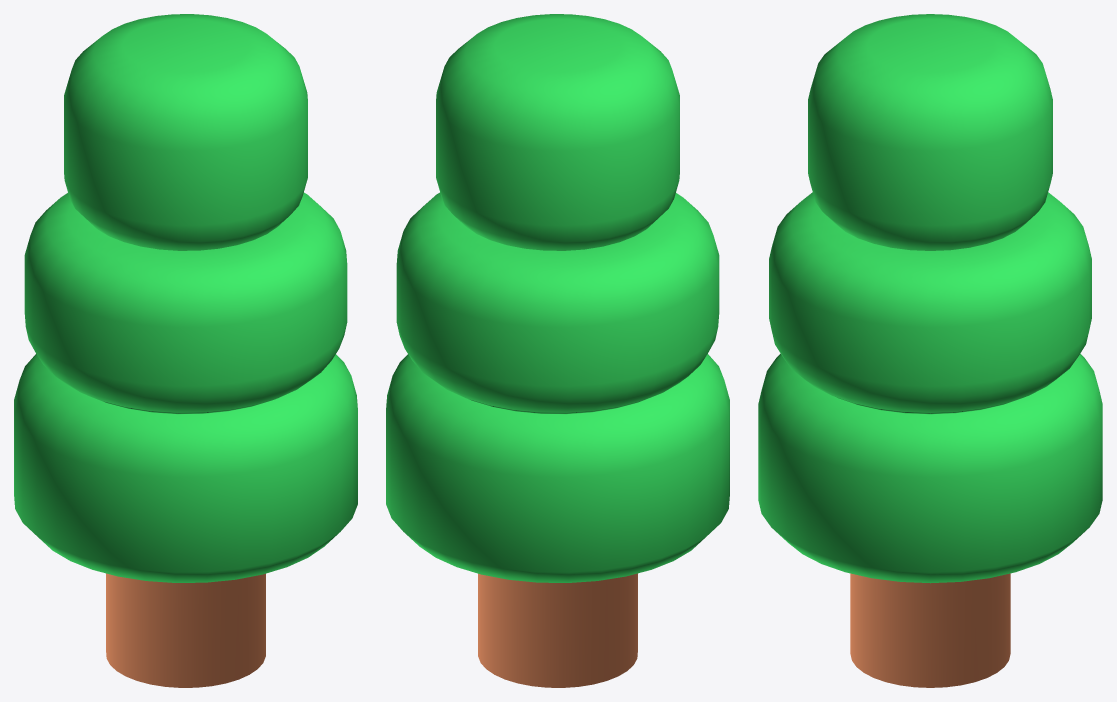
Rendered from PROP_tree 1.fbx.
3 views of the same model, side by side, from view 1: azimuth 30°, elevation 25°; view 2: azimuth 150°, elevation 25°; view 3: azimuth 270°, elevation 25° (orthographic).
Visible parts, largest first — view 1: Cylinder; view 2: Cylinder; view 3: Cylinder.
Part boxes in pixels (bbox=[...]): Cylinder: bbox=[14, 14, 357, 687]; Cylinder: bbox=[386, 14, 729, 687]; Cylinder: bbox=[758, 14, 1102, 687].
Bounding box in the file's own units: 251 × 489 × 251.
